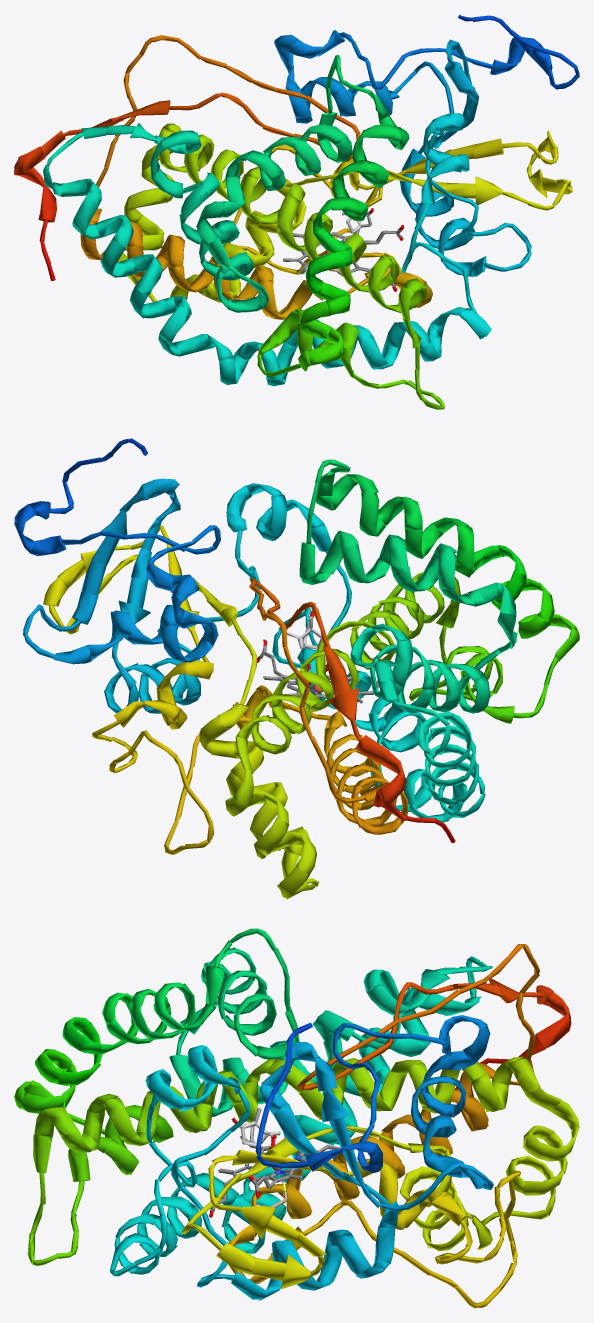
File: model_of_cytochrome_p450__oxygen__drug_complex.glb
3 renders of one model, top to bottom at view 1: azimuth 30°, elevation 25°; view 2: azimuth 150°, elevation 25°; view 3: azimuth 270°, elevation 25°, orthographic. The views are drawn at different scales.
Parts seen in each view (by area): view 1: matsym_4; view 2: matsym_4; view 3: matsym_4.
Boxes of the visible parts, box(x1,y1,x2,y2) form: matsym_4: box(14, 14, 579, 409); matsym_4: box(14, 438, 579, 899); matsym_4: box(14, 928, 579, 1308).
Size of the model in its own units: 5.83 by 3.85 by 5.51.
